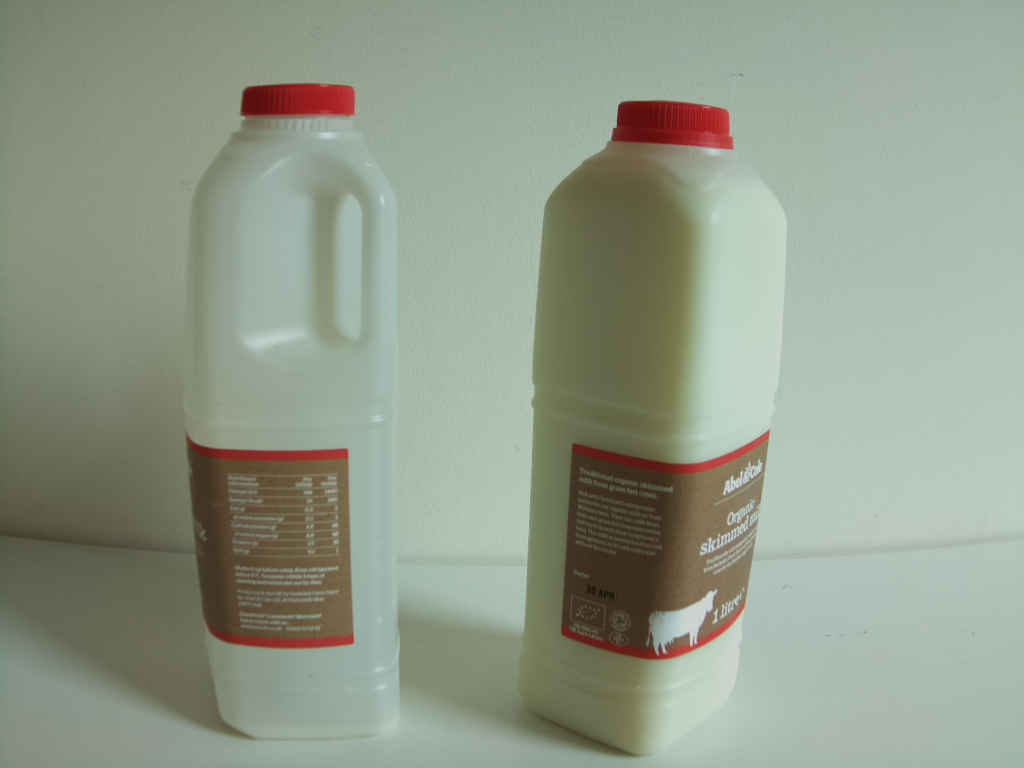milk: (519, 103, 789, 759), (180, 82, 401, 745)
